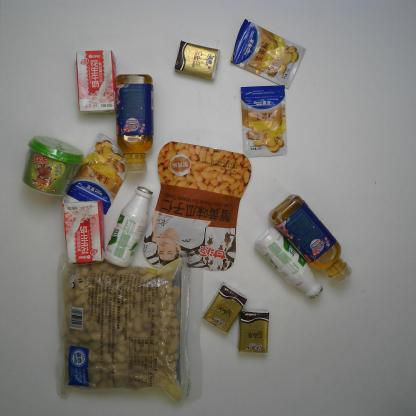Dried Food: (54, 254, 196, 404)
Dried Fruit: (143, 140, 253, 276)
Drink: (266, 193, 353, 284), (113, 72, 155, 174)
Instant Drink: (20, 137, 84, 198)
Milk: (255, 230, 323, 300), (104, 184, 154, 270), (74, 48, 120, 116), (61, 199, 105, 266)
Seasoner: (63, 132, 136, 214), (228, 17, 306, 90), (239, 84, 290, 160)
Tissue: (200, 282, 247, 335), (172, 38, 221, 81), (237, 308, 271, 356)
